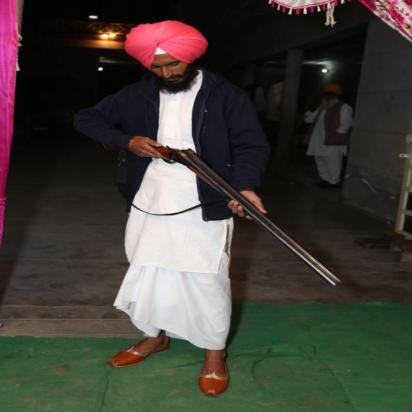Gun: (100, 133, 345, 289)
